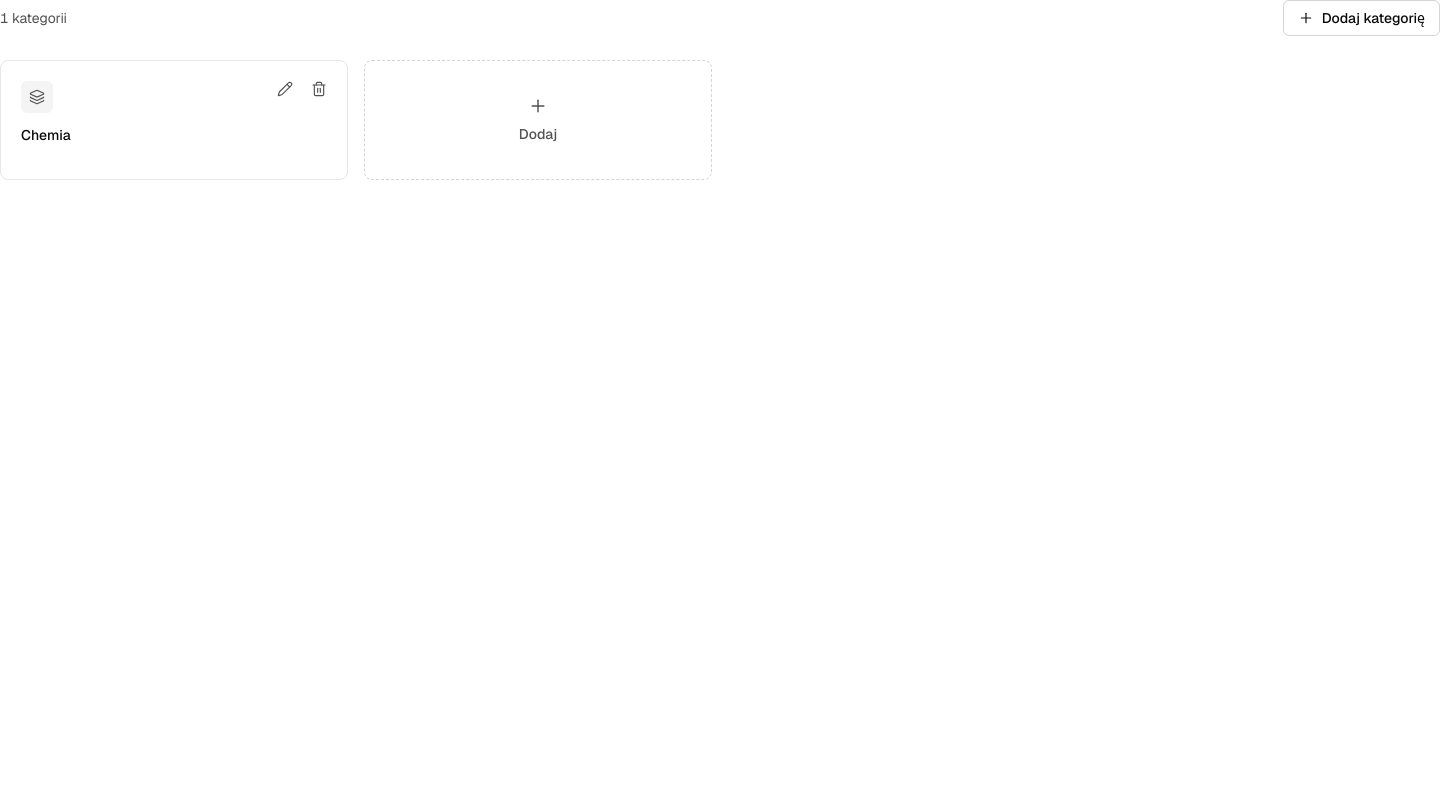
CategoriesSettings › asks before deleting a category
The image size is (1440, 810).
Click the button named "Usuń kategorię: Chemia": [319, 89] box [303, 73, 335, 105]
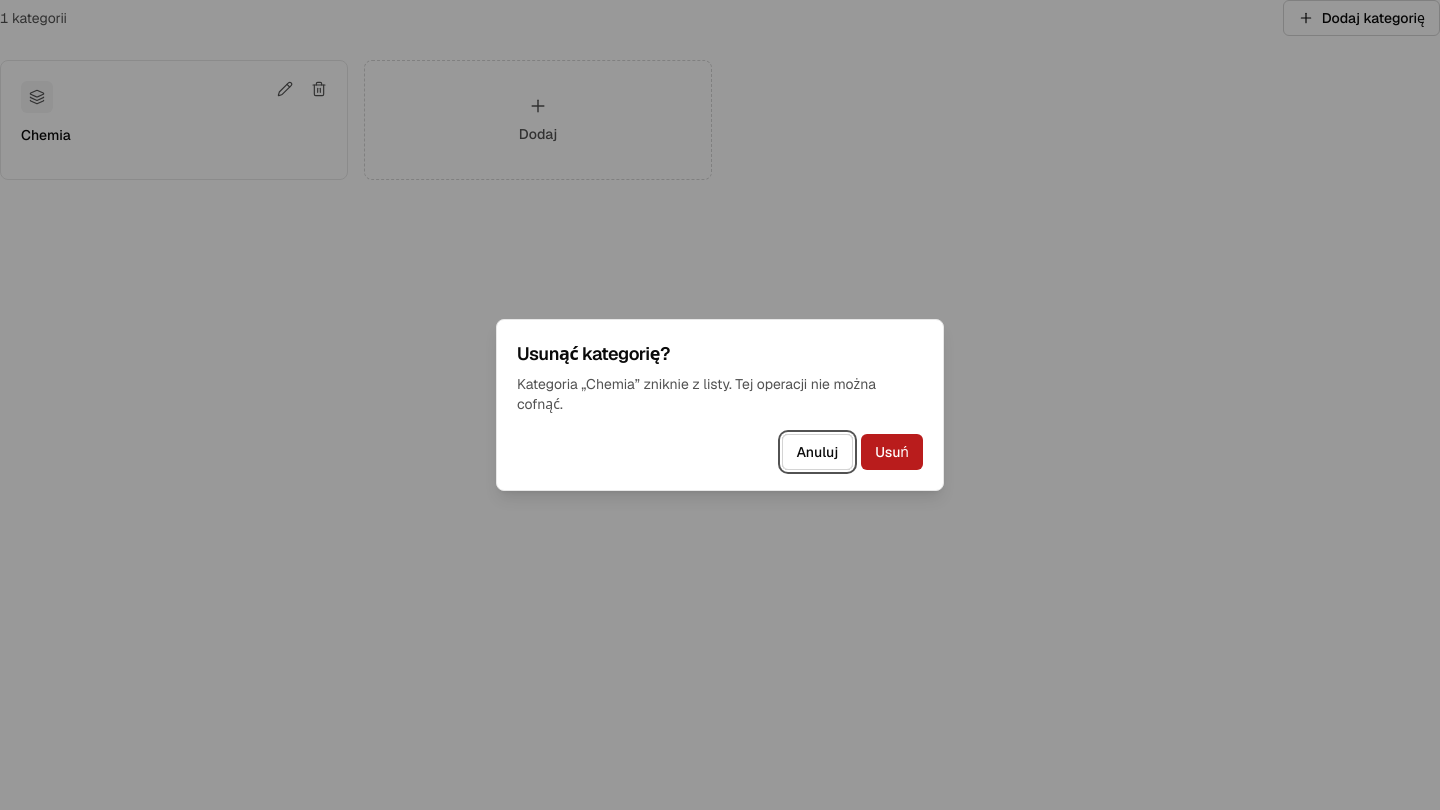
Expected: the dialog "Usunąć kategorię?" is shown, [496, 319, 944, 491]
Click the button "Usuń": [892, 452] box [861, 434, 923, 470]
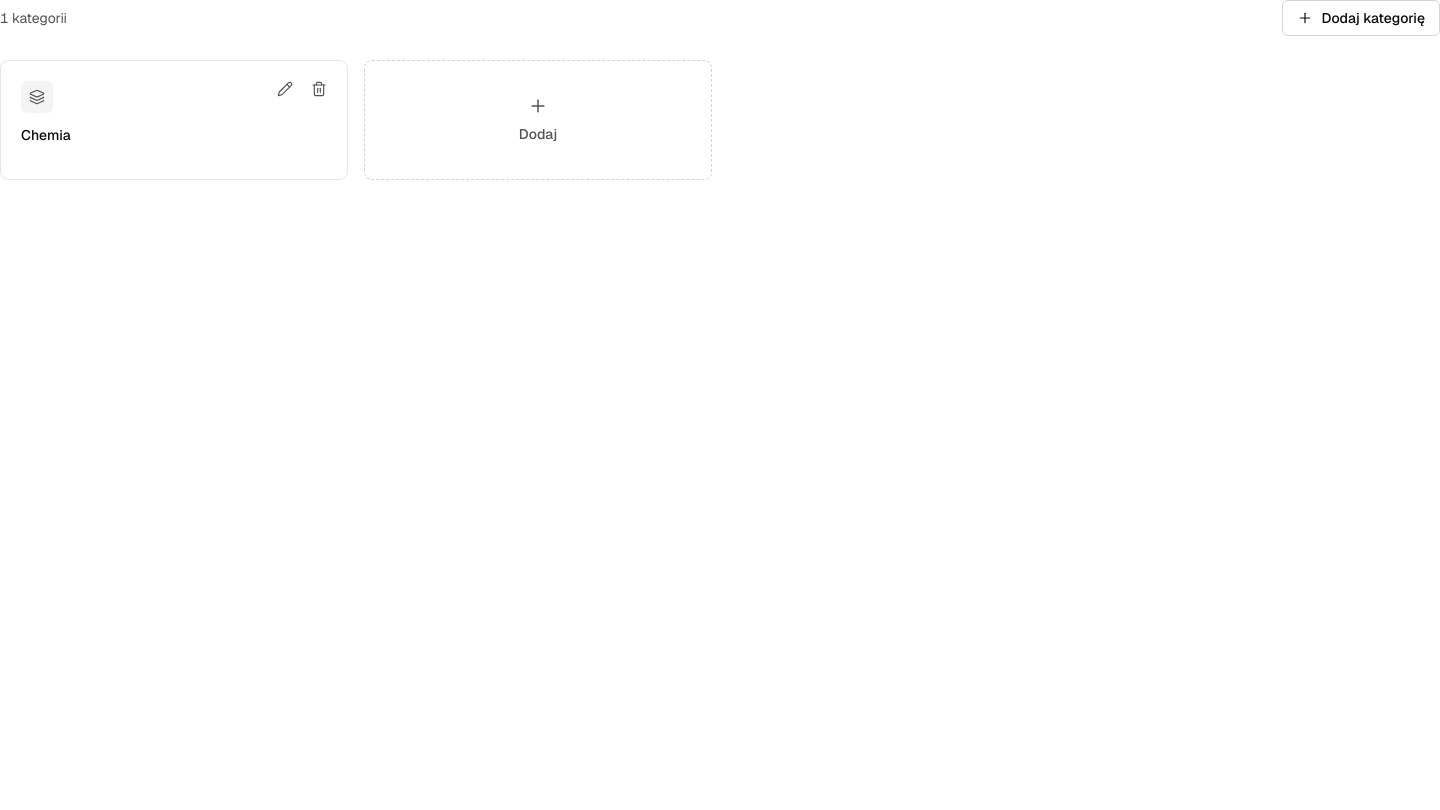
Expected: the dialog is gone
